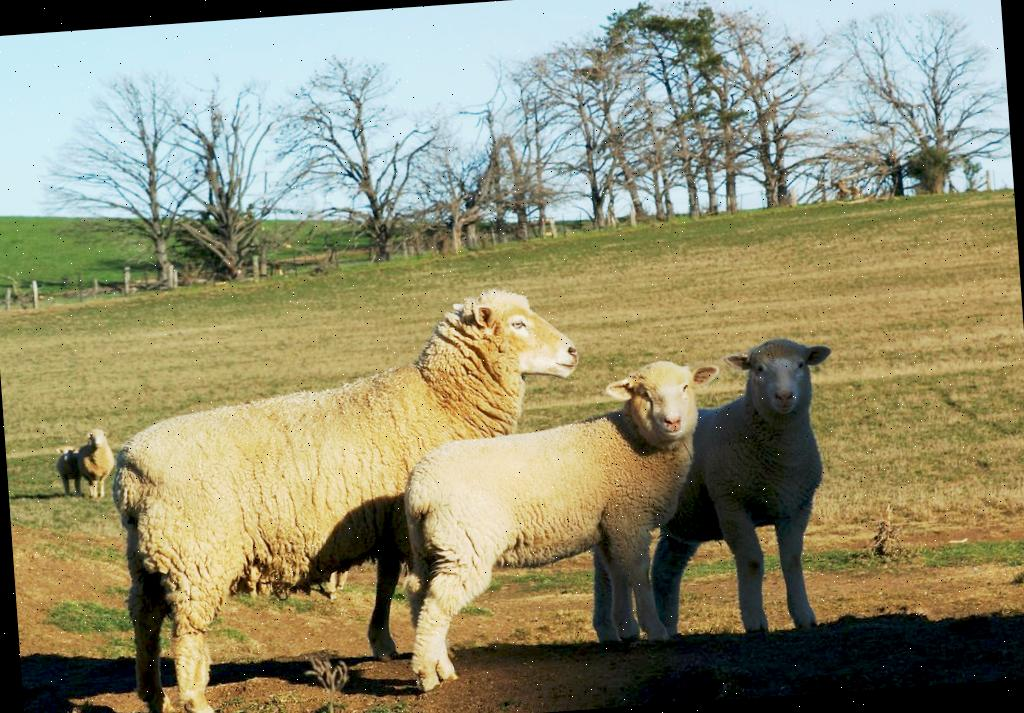Sheep: (92, 282, 534, 713), (396, 356, 741, 689), (632, 336, 848, 638), (76, 425, 114, 494), (56, 444, 78, 495)
